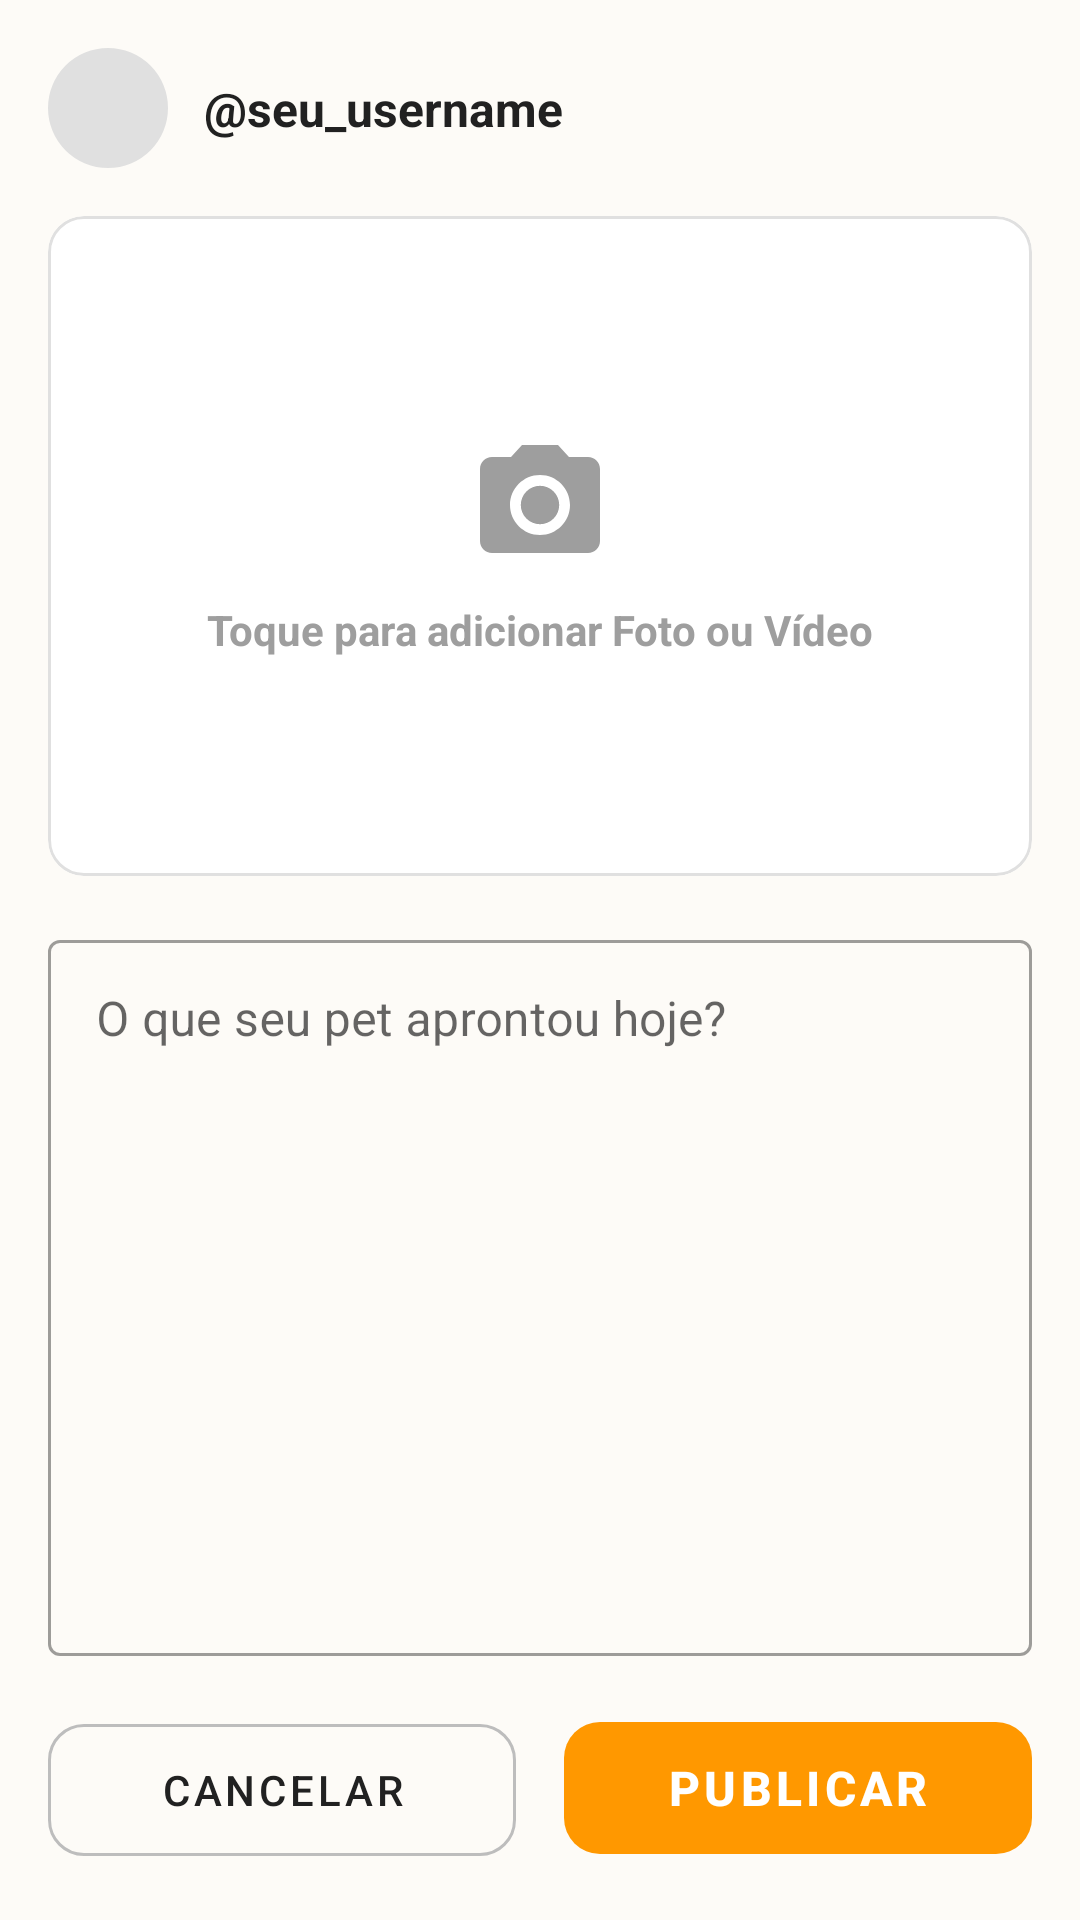

Where icons sit on this 1080×1920 app screen, as (x1,y1,x2,y2):
camera: (480,445,600,553)
